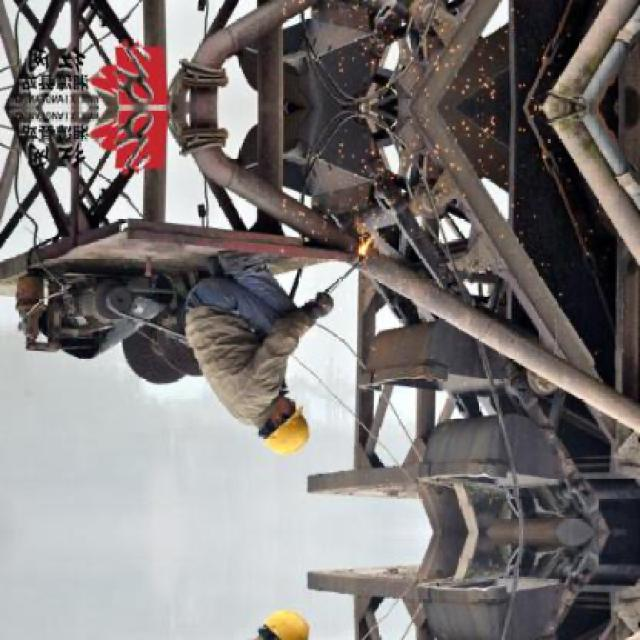con casco: (218, 384, 360, 455)
